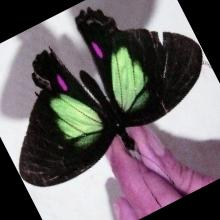butterfly: (18, 7, 201, 186)
